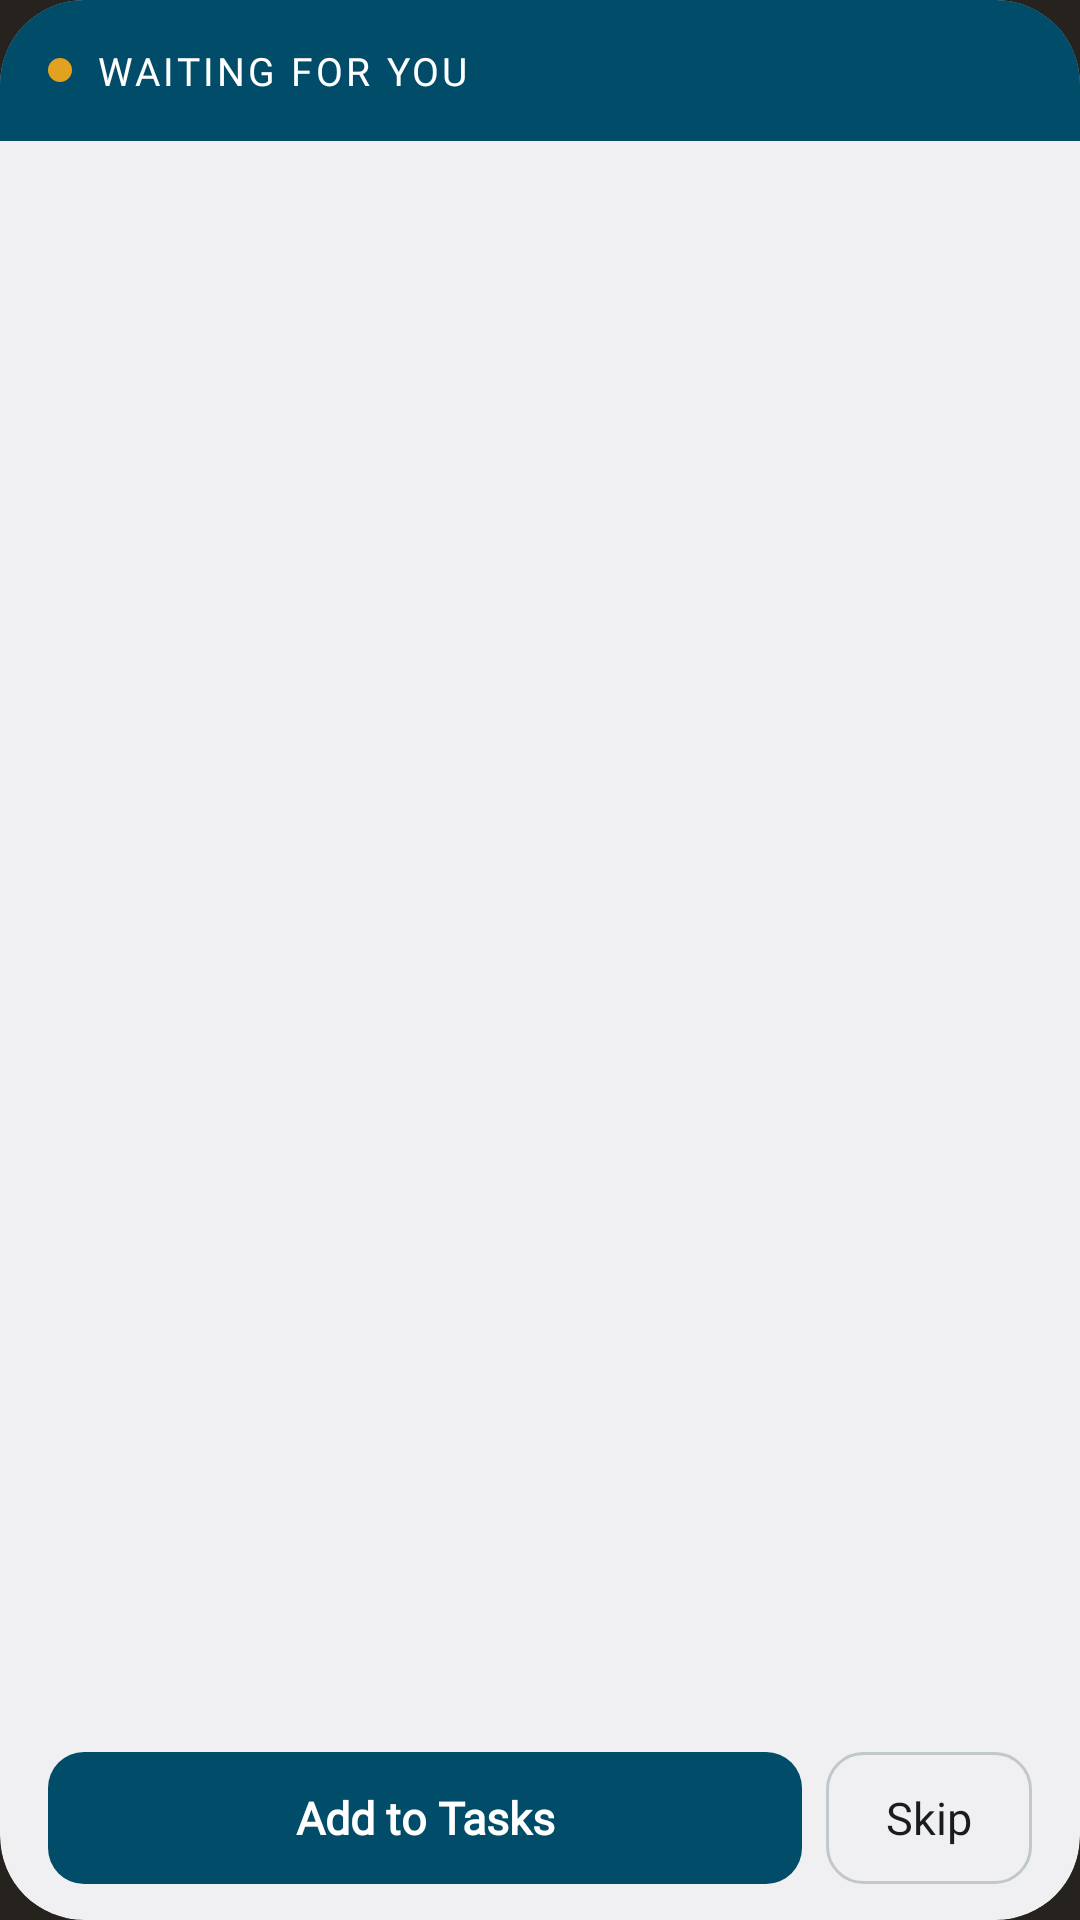

Screen size 1080 x 1920. Icon name, then its box in pixels as (x1, y1, x2, y2):
led amber: (48, 58, 72, 82)
